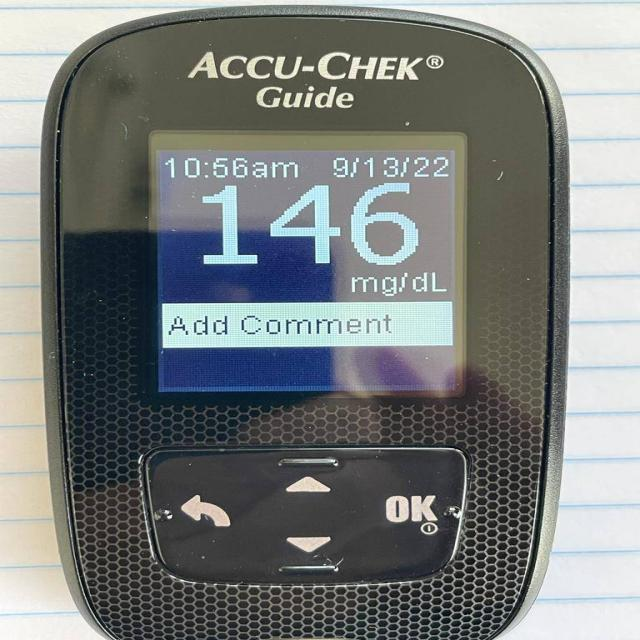gluco: (38, 4, 572, 639)
